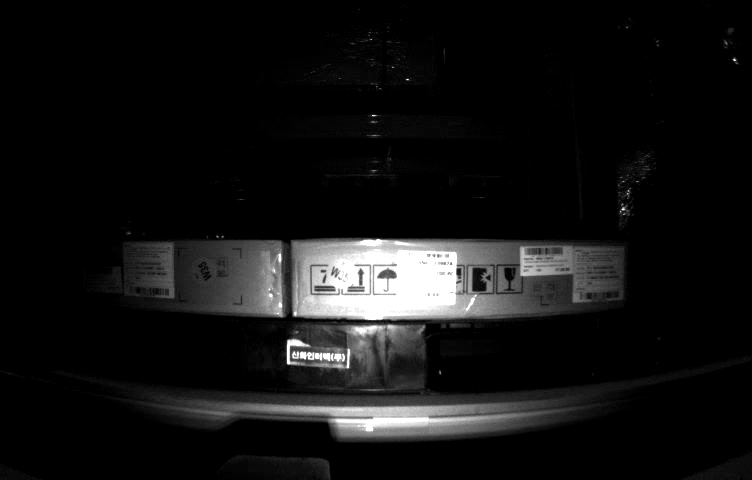True Barcode: (397, 249, 458, 304)
